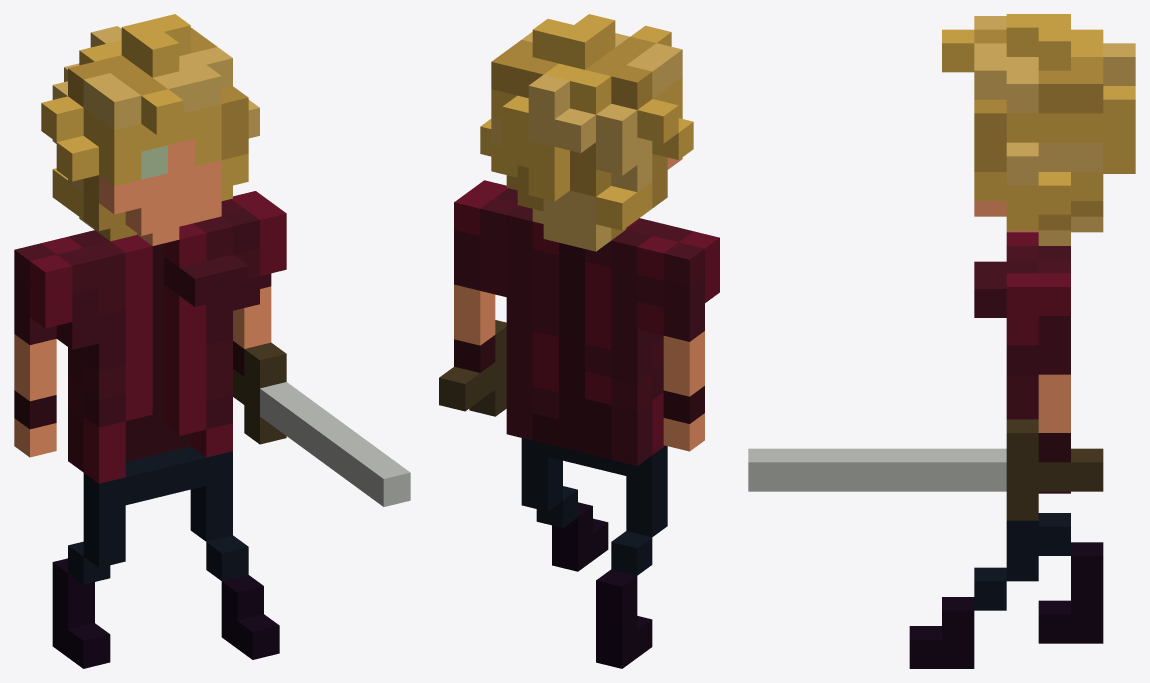
The model's file is SwingingBoyCharacter-3.obj.
3 renders of one model, left to right at view 1: azimuth 30°, elevation 25°; view 2: azimuth 150°, elevation 25°; view 3: azimuth 270°, elevation 25°, orthographic. The views are drawn at different scales.
Visible parts, largest first — view 1: SwingingBoyCharacter-3; view 2: SwingingBoyCharacter-3; view 3: SwingingBoyCharacter-3.
Boxes of the visible parts, x1=… form: SwingingBoyCharacter-3: x1=14, y1=14, x2=410, y2=668; SwingingBoyCharacter-3: x1=439, y1=14, x2=719, y2=668; SwingingBoyCharacter-3: x1=748, y1=14, x2=1135, y2=668.
Size of the model in its own units: 9 by 22 by 12.
1 material, 1 textured.
